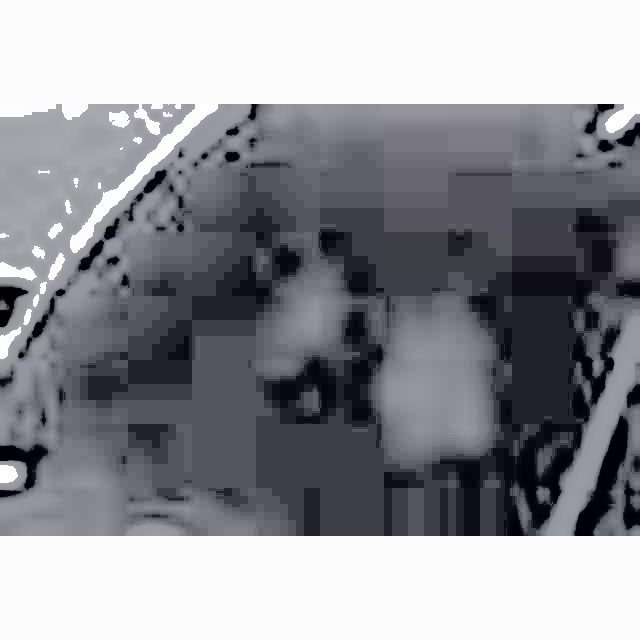tidak-pakai: (232, 224, 488, 464)
